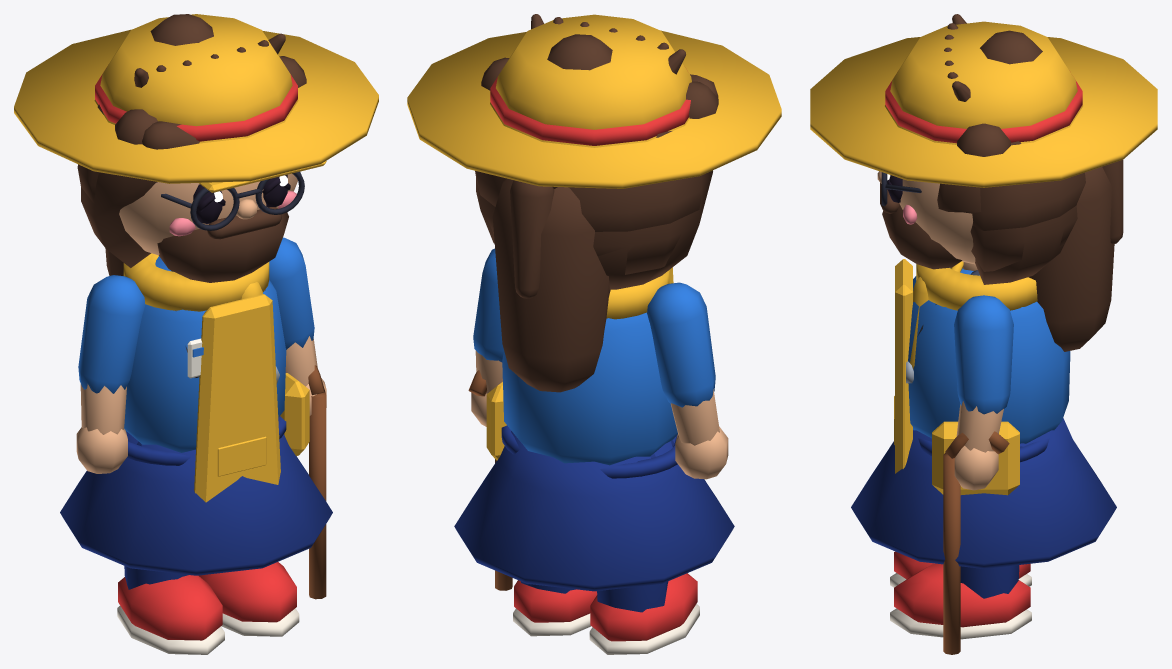
The model's file is adult.glb.
The picture shows the model from 3 angles, left to right: view 1: azimuth 30°, elevation 25°; view 2: azimuth 150°, elevation 25°; view 3: azimuth 270°, elevation 25°; orthographic projection. The views are drawn at different scales.
Parts seen in each view (by area): view 1: Acc_sunhat_Accent, Acc_skirt_Bottom, Acc_apron_Accent, Body_Top, Acc_beard_Hair, ArmL_Top, LegL_Shoes, Head_Skin, Acc_scarf_Accent, LegR_Shoes, ArmL_Skin, ArmR_Top (+19 smaller); view 2: Acc_sunhat_Accent, Acc_skirt_Bottom, Hair_long_Hair, Body_Top, Hair_curls_Hair, ArmL_Top, LegL_Shoes, Hair_pony_Hair, Acc_sunhat_Satin, ArmL_Skin, Hair_bob_Hair, LegR_Shoes (+11 smaller); view 3: Acc_sunhat_Accent, Acc_skirt_Bottom, Body_Top, Hair_long_Hair, ArmR_Top, Hair_curls_Hair, LegR_Shoes, Acc_cane_Gloss, Acc_scarf_Accent, Acc_apron_Accent, Hair_bob_Hair, Head_Skin (+11 smaller).
Part boxes in pixels (left/top/right/bottom): Acc_sunhat_Accent: left=14, top=14, right=378, bottom=183; Acc_skirt_Bottom: left=60, top=431, right=332, bottom=575; Acc_apron_Accent: left=194, top=294, right=280, bottom=502; Body_Top: left=124, top=256, right=286, bottom=452; Acc_beard_Hair: left=157, top=207, right=288, bottom=282; ArmL_Top: left=78, top=275, right=145, bottom=393; LegL_Shoes: left=118, top=575, right=222, bottom=640; Head_Skin: left=119, top=173, right=297, bottom=255; Acc_scarf_Accent: left=123, top=253, right=269, bottom=311; LegR_Shoes: left=199, top=562, right=296, bottom=622; ArmL_Skin: left=76, top=384, right=127, bottom=473; ArmR_Top: left=269, top=237, right=314, bottom=349; Acc_sunhat_Accent: left=407, top=14, right=781, bottom=188; Acc_skirt_Bottom: left=454, top=431, right=734, bottom=591; Hair_long_Hair: left=476, top=170, right=712, bottom=392; Body_Top: left=502, top=312, right=677, bottom=465; Hair_curls_Hair: left=475, top=57, right=718, bottom=231; ArmL_Top: left=647, top=282, right=715, bottom=407; LegL_Shoes: left=590, top=573, right=697, bottom=641; Hair_pony_Hair: left=510, top=180, right=557, bottom=298; Acc_sunhat_Satin: left=490, top=77, right=690, bottom=145; ArmL_Skin: left=671, top=389, right=728, bottom=479; Hair_bob_Hair: left=477, top=183, right=702, bottom=274; LegR_Shoes: left=514, top=580, right=597, bottom=622; Acc_sunhat_Accent: left=810, top=21, right=1157, bottom=187; Acc_skirt_Bottom: left=851, top=418, right=1116, bottom=568; Body_Top: left=908, top=268, right=1070, bottom=443; Hair_long_Hair: left=954, top=167, right=1114, bottom=351; ArmR_Top: left=954, top=295, right=1013, bottom=414; Hair_curls_Hair: left=957, top=123, right=1085, bottom=230; LegR_Shoes: left=894, top=563, right=1030, bottom=627; Acc_cane_Gloss: left=943, top=431, right=1009, bottom=654; Acc_scarf_Accent: left=910, top=264, right=1037, bottom=369; Acc_apron_Accent: left=894, top=259, right=963, bottom=473; Hair_bob_Hair: left=937, top=183, right=1077, bottom=271; Head_Skin: left=877, top=171, right=975, bottom=264.
Bounding box in the file's own units: 0.8925 × 1.6 × 0.8701.
